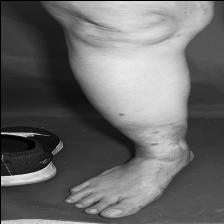DA: (66, 2, 203, 46)
